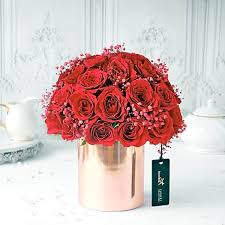rose: (77, 65, 144, 132)
